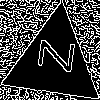Z: (29, 36, 75, 74)
